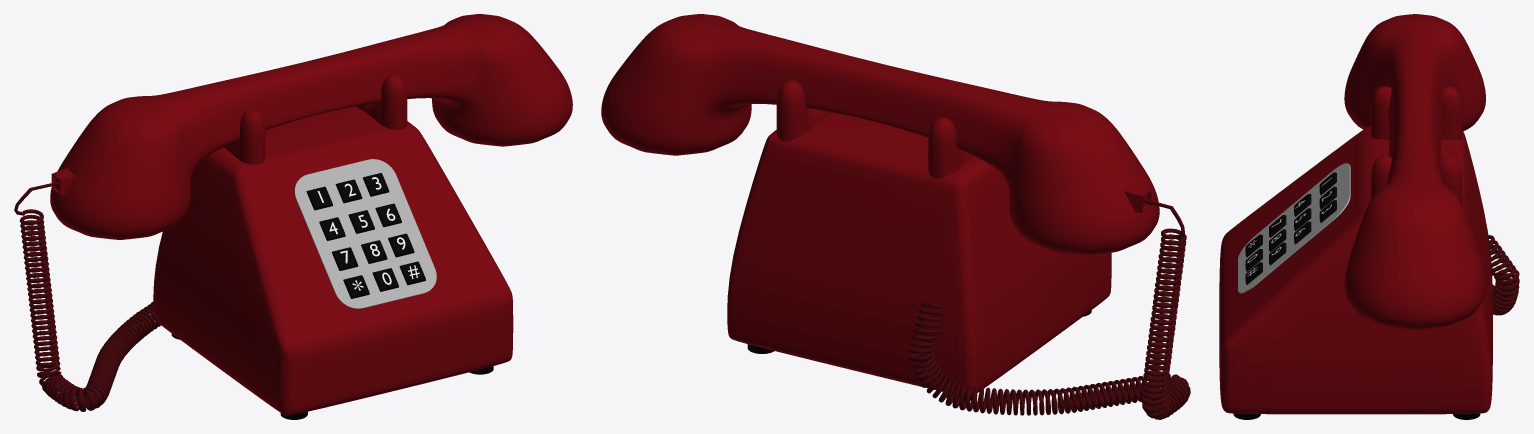
The model's file is old phone.fbx.
The picture shows the model from 3 angles, left to right: view 1: azimuth 30°, elevation 25°; view 2: azimuth 150°, elevation 25°; view 3: azimuth 270°, elevation 25°; orthographic projection. The views are drawn at different scales.
Visible parts, largest first — view 1: Cube.103, Circle.001, Cube, Circle, Cube.105, Cube.104; view 2: Cube.103, Circle.001, Circle, Cube.105, Cube.104, Cube.012; view 3: Cube.103, Circle.001, Cube, Cube.104, Circle, Cube.105.
Part boxes in pixels (bbox=[...]): Cube.103: bbox=[153, 106, 513, 415]; Circle.001: bbox=[50, 14, 572, 239]; Cube: bbox=[294, 159, 436, 308]; Circle: bbox=[14, 181, 160, 411]; Cube.105: bbox=[356, 75, 407, 129]; Cube.104: bbox=[224, 109, 265, 164]; Cube.103: bbox=[727, 112, 1111, 396]; Circle.001: bbox=[601, 14, 1159, 255]; Circle: bbox=[908, 198, 1190, 419]; Cube.105: bbox=[776, 80, 832, 141]; Cube.104: bbox=[928, 117, 974, 178]; Cube.012: bbox=[1124, 184, 1151, 212]; Cube.103: bbox=[1219, 126, 1492, 414]; Circle.001: bbox=[1344, 14, 1485, 329]; Cube: bbox=[1238, 163, 1350, 293]; Cube.104: bbox=[1371, 86, 1462, 139]; Circle: bbox=[1487, 235, 1519, 315]; Cube.105: bbox=[1371, 156, 1462, 204].
Bounding box in the file's own units: 1434 × 678 × 683.
